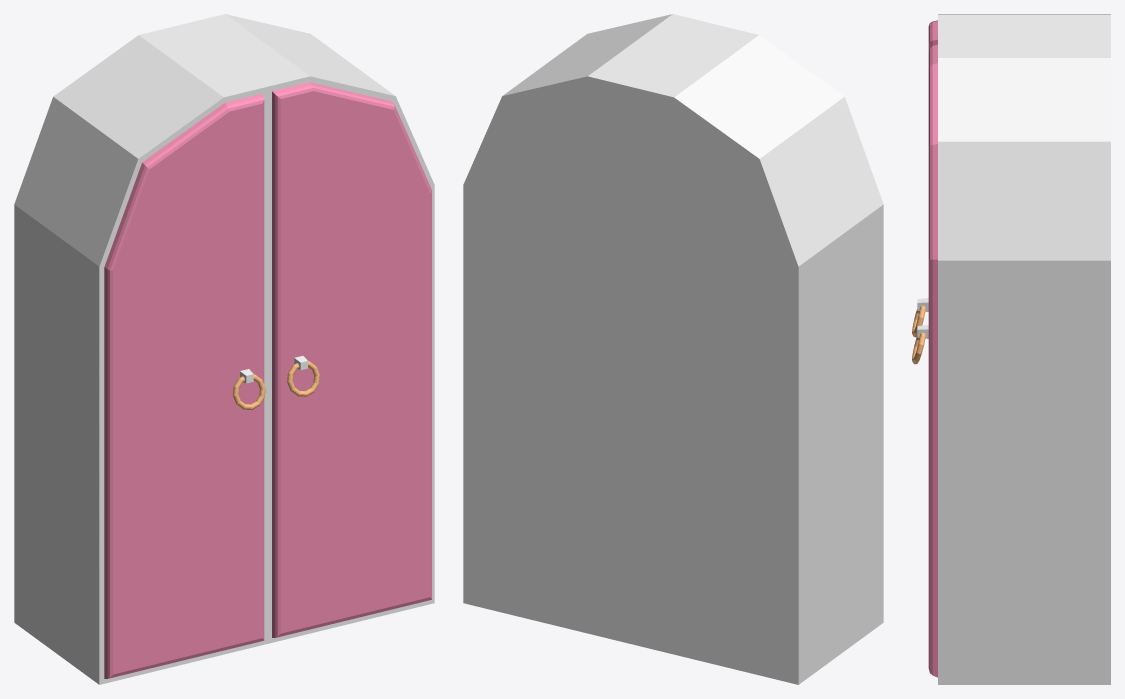
The model's file is Wardrobe_21.fbx.
3 renders of one model, left to right at view 1: azimuth 30°, elevation 25°; view 2: azimuth 150°, elevation 25°; view 3: azimuth 270°, elevation 25°, orthographic.
Parts seen in each view (by area): view 1: Wardrobe_21 Door_1, Wardrobe_21 Door_2, Wardrobe_21; view 2: Wardrobe_21; view 3: Wardrobe_21, Wardrobe_21 Door_2, Wardrobe_21 Door_1.
Part boxes in pixels (<box>): Wardrobe_21 Door_1: <box>104,94,265,678</box>; Wardrobe_21 Door_2: <box>272,82,431,637</box>; Wardrobe_21: <box>14,14,434,684</box>; Wardrobe_21: <box>463,14,883,684</box>; Wardrobe_21: <box>938,14,1110,684</box>; Wardrobe_21 Door_2: <box>912,44,937,677</box>; Wardrobe_21 Door_1: <box>912,20,937,337</box>.
Size of the model in its own units: 1.54 by 2.45 by 0.7789.
